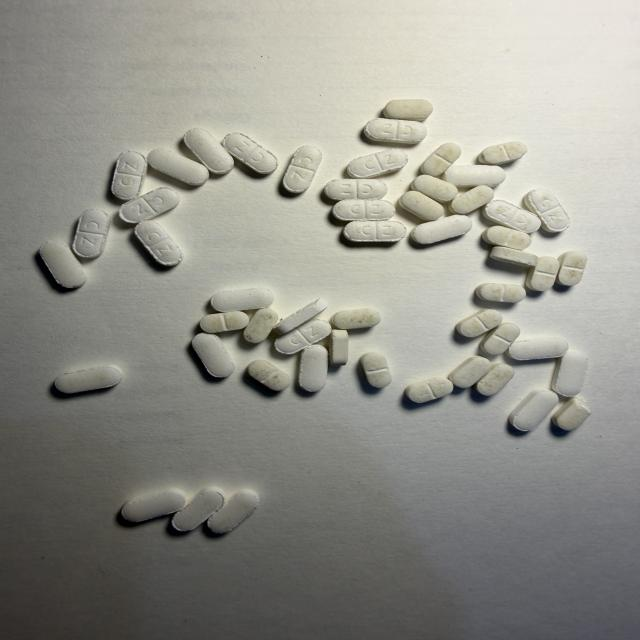pill: (172, 487, 224, 531), (223, 133, 278, 174), (184, 128, 233, 174), (134, 221, 183, 266), (208, 490, 258, 534), (148, 149, 209, 185), (40, 241, 86, 288), (119, 187, 179, 223), (122, 490, 185, 522), (509, 390, 558, 431), (274, 298, 328, 335), (275, 319, 331, 354), (524, 189, 569, 232), (282, 146, 322, 193), (484, 200, 540, 233), (72, 210, 110, 258), (192, 334, 234, 377), (347, 149, 408, 178), (55, 367, 122, 393), (412, 215, 472, 244), (551, 351, 587, 397), (112, 151, 146, 199), (364, 118, 427, 143), (211, 288, 273, 311), (508, 337, 568, 360), (333, 199, 395, 221), (444, 165, 506, 187), (299, 345, 328, 392), (449, 356, 491, 388), (343, 221, 406, 242), (400, 191, 444, 221), (421, 143, 461, 176), (325, 179, 387, 200), (248, 360, 290, 391), (405, 376, 453, 403), (449, 185, 493, 214), (552, 397, 590, 430), (476, 363, 514, 396), (456, 310, 502, 337), (480, 323, 520, 354), (482, 225, 531, 250), (244, 308, 278, 343), (412, 175, 457, 201), (556, 250, 588, 286), (526, 257, 559, 291), (479, 142, 527, 165), (361, 352, 391, 387), (383, 100, 433, 121), (200, 312, 249, 333), (475, 283, 525, 303), (332, 309, 380, 329), (490, 246, 538, 266), (330, 330, 348, 365)
